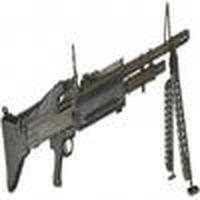gun: (2, 31, 199, 190)
